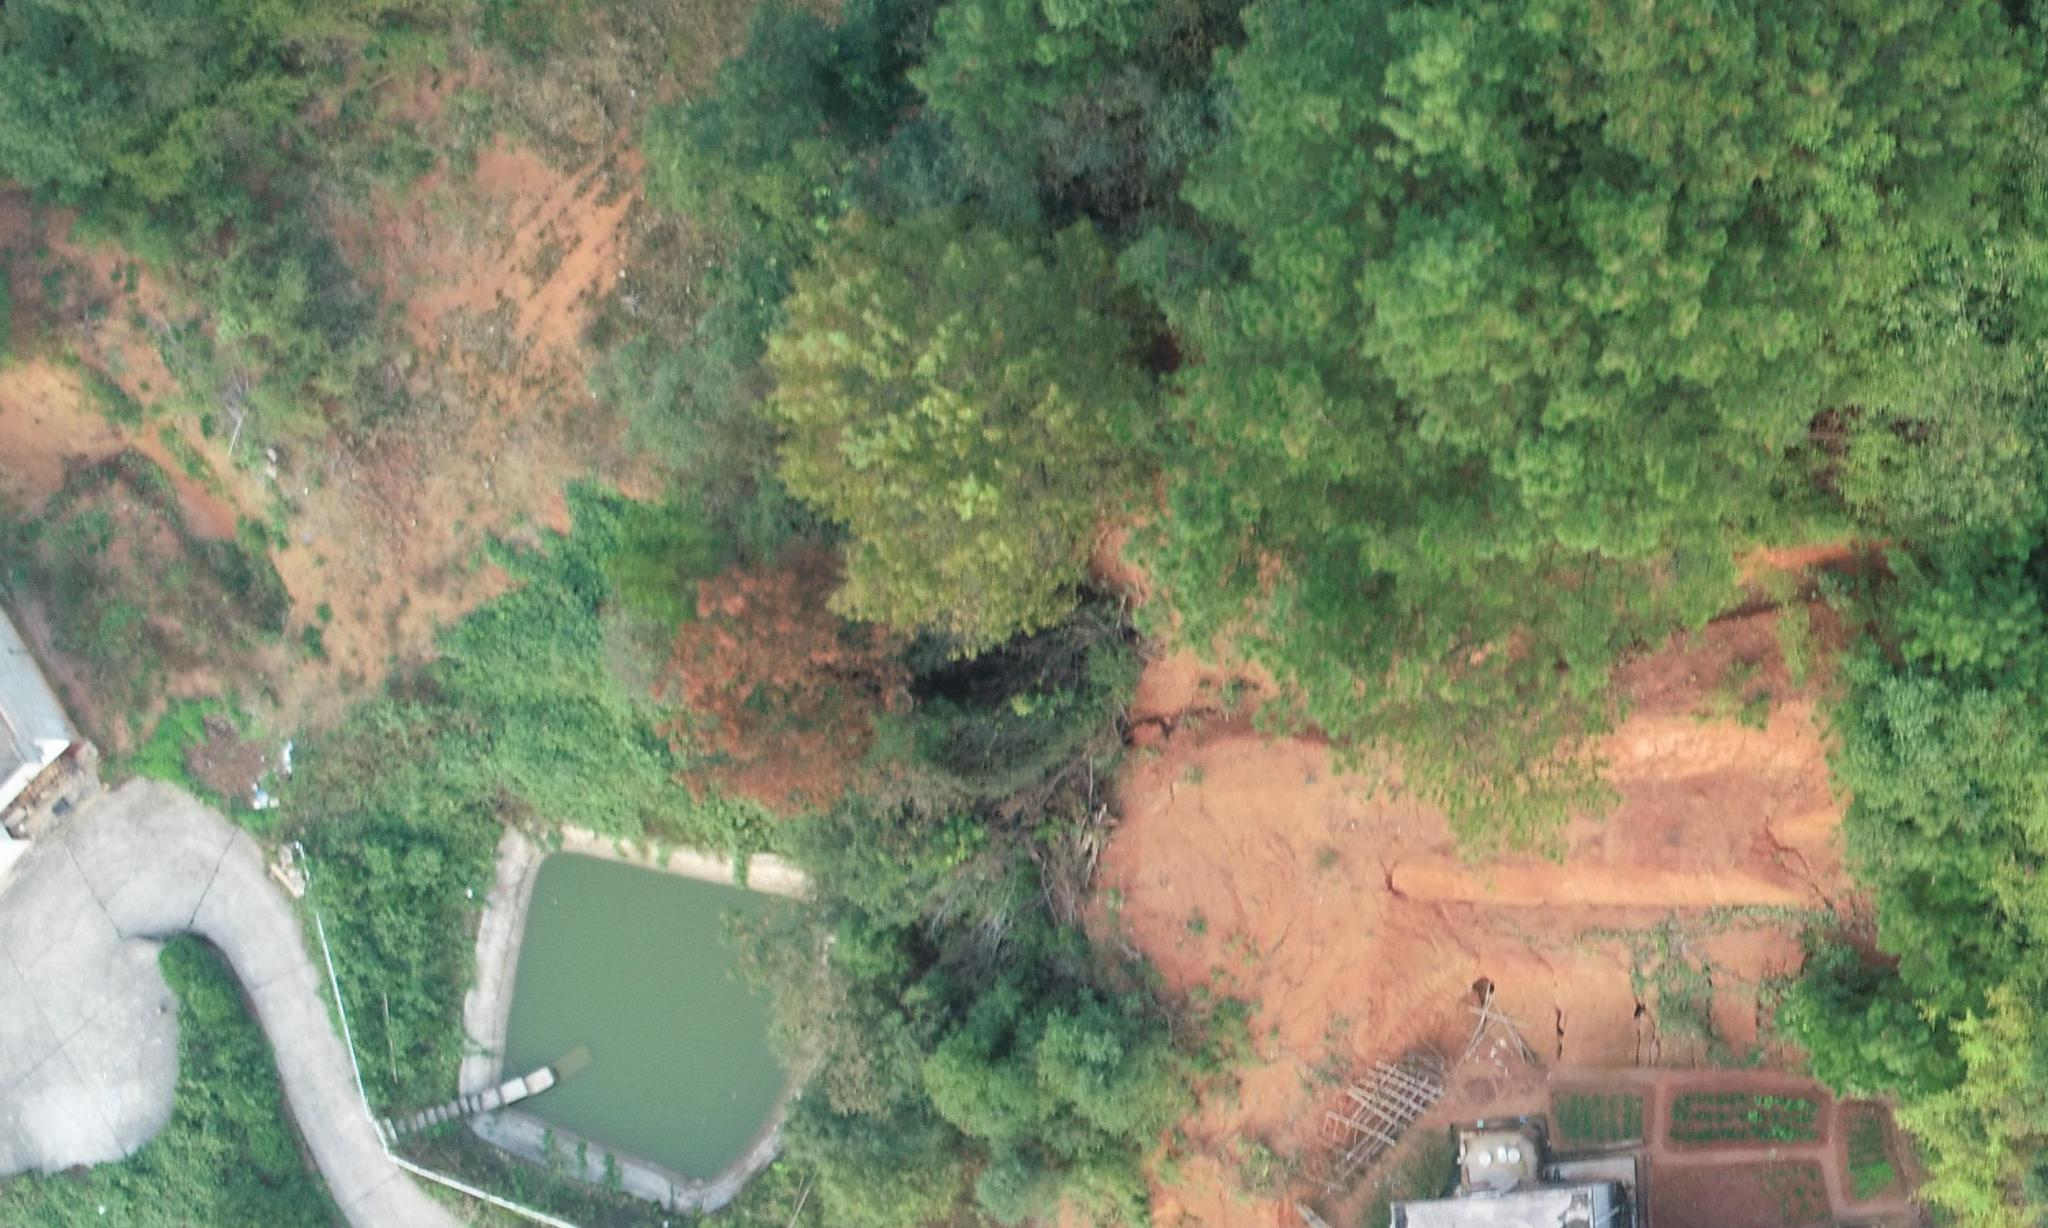heavy: (645, 545, 909, 833)
